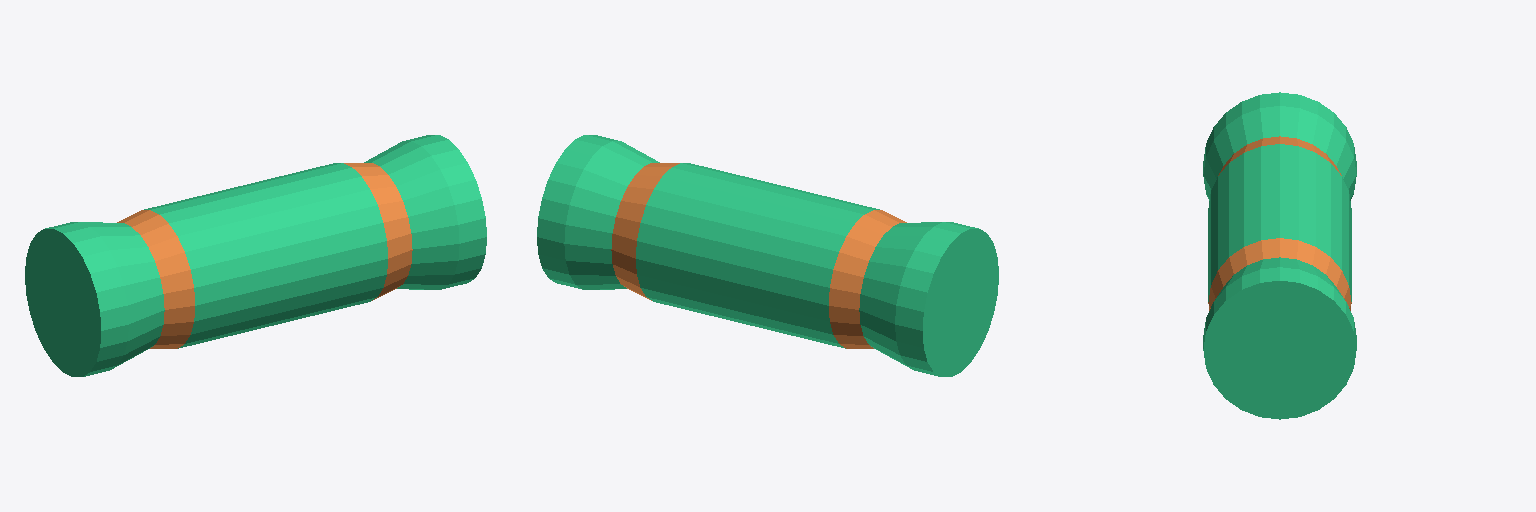
File: bedrollPacked.obj
3 views of the same model, side by side, from view 1: azimuth 30°, elevation 25°; view 2: azimuth 150°, elevation 25°; view 3: azimuth 270°, elevation 25° (orthographic).
Visible parts, largest first — view 1: bedrollPacked; view 2: bedrollPacked; view 3: bedrollPacked.
Part boxes in pixels (x1,y1,x2,y2): bedrollPacked: (25,135,486,376); bedrollPacked: (537,135,998,376); bedrollPacked: (1203,92,1356,419).
Bounding box in the file's own units: 0.2604 × 0.0897 × 0.0897.